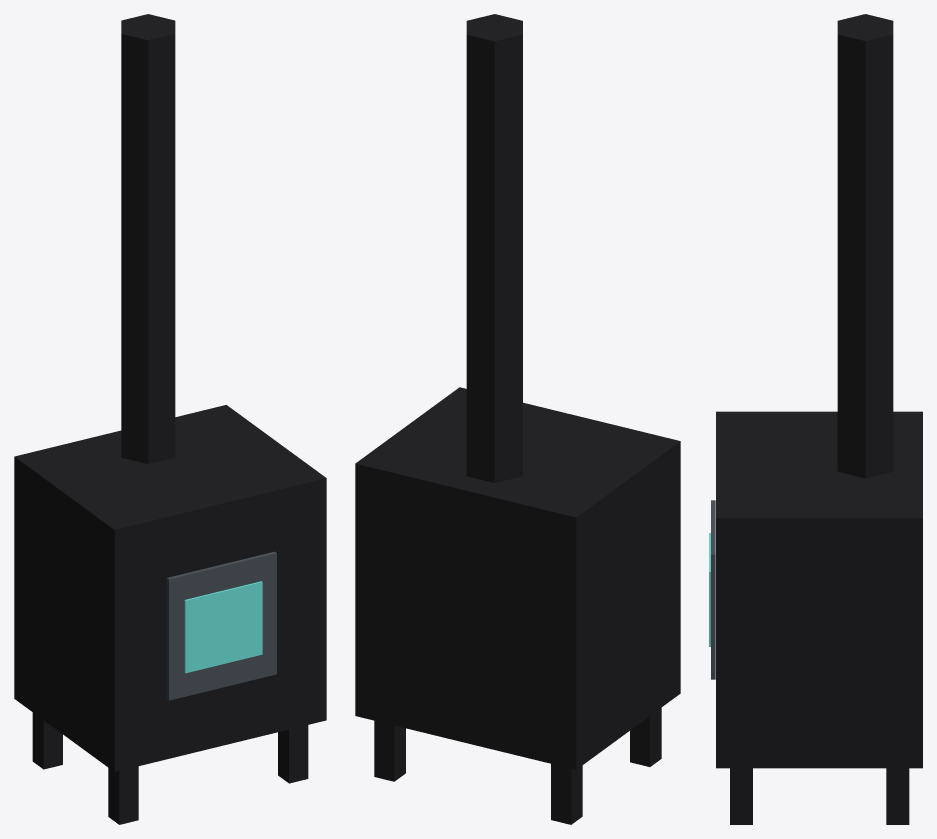
File: GH_WoodStove_01.glb
3 renders of one model, left to right at view 1: azimuth 30°, elevation 25°; view 2: azimuth 150°, elevation 25°; view 3: azimuth 270°, elevation 25°, orthographic. The views are drawn at different scales.
Parts seen in each view (by area): view 1: GH_WoodStove_01; view 2: GH_WoodStove_01; view 3: GH_WoodStove_01.
Boxes of the visible parts, bbox=[...] form: GH_WoodStove_01: bbox=[14, 14, 326, 824]; GH_WoodStove_01: bbox=[355, 14, 680, 824]; GH_WoodStove_01: bbox=[709, 14, 922, 824].
Size of the model in its own units: 0.55 by 1.8 by 0.4655.
1 material, 1 textured.
